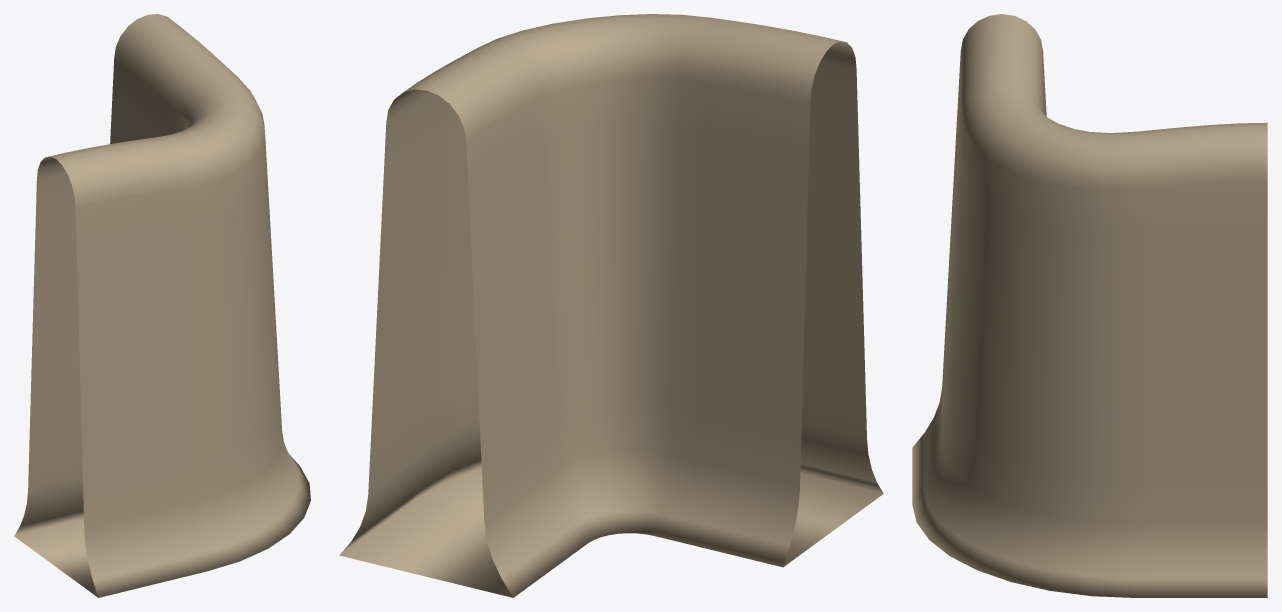
The model's file is KFB_Wall_corner.r4.glb.
3 renders of one model, left to right at view 1: azimuth 30°, elevation 25°; view 2: azimuth 150°, elevation 25°; view 3: azimuth 270°, elevation 25°, orthographic. The views are drawn at different scales.
Visible parts, largest first — view 1: KFB_Wall_corner; view 2: KFB_Wall_corner; view 3: KFB_Wall_corner.
Part boxes in pixels (left/top/right/bottom): KFB_Wall_corner: left=14, top=14, right=310, bottom=597; KFB_Wall_corner: left=339, top=14, right=883, bottom=597; KFB_Wall_corner: left=912, top=14, right=1267, bottom=597.
Bounding box in the file's own units: 2.68 × 3.6 × 2.68.
